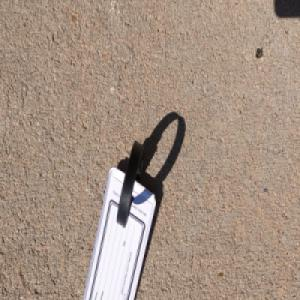LuggageTag: (81, 138, 156, 300)
